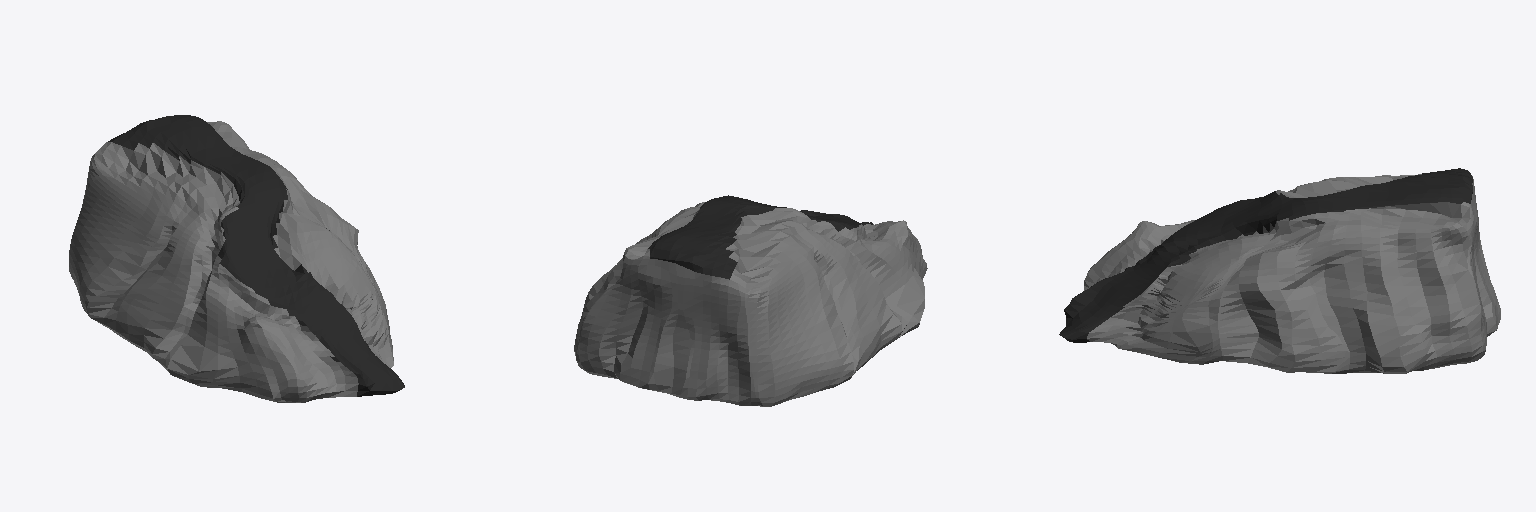
The model's file is Path.obj.
The picture shows the model from 3 angles: view 1: azimuth 30°, elevation 25°; view 2: azimuth 150°, elevation 25°; view 3: azimuth 270°, elevation 25°; orthographic projection.
Visible parts, largest first — view 1: pCube1; view 2: pCube1; view 3: pCube1.
Part boxes in pixels (bbox=[...]): pCube1: bbox=[69, 115, 404, 402]; pCube1: bbox=[574, 195, 927, 406]; pCube1: bbox=[1059, 168, 1500, 373].
Size of the model in its own units: 20.23 by 10.93 by 30.23.